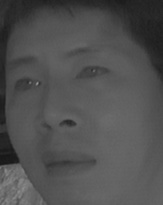eye: (73, 62, 112, 85), (9, 75, 42, 96)
mouth: (38, 144, 96, 180)
